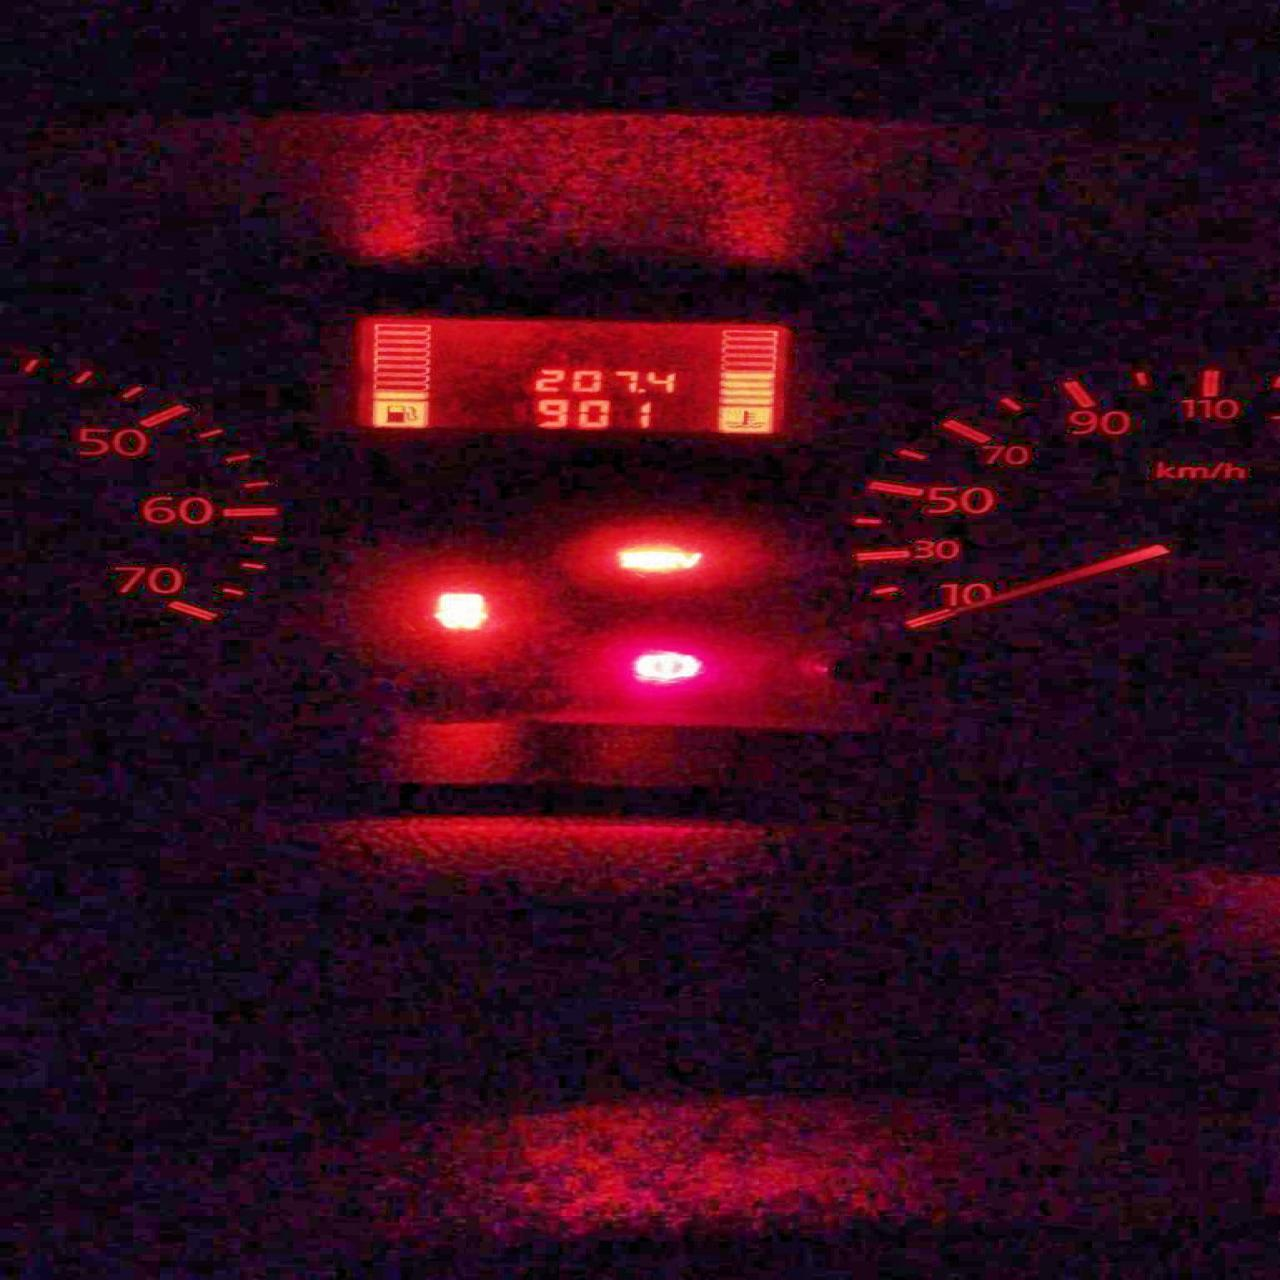-: (635, 387, 645, 393)
0: (574, 399, 610, 428), (570, 369, 601, 393)
1: (636, 401, 651, 429)
2: (531, 368, 564, 392)
4: (645, 370, 675, 394)
7: (613, 369, 638, 393)
9: (535, 397, 570, 427)
odometer: (348, 315, 792, 437)
